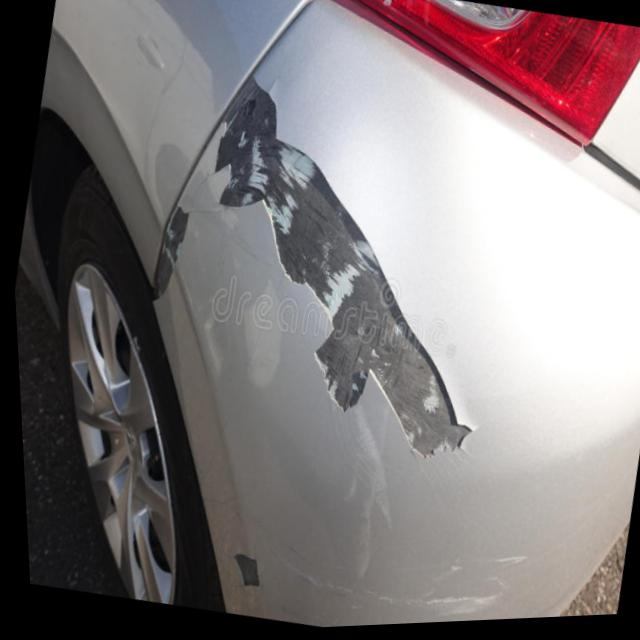Scratch: (212, 77, 468, 467), (149, 205, 187, 305), (227, 559, 257, 593)
